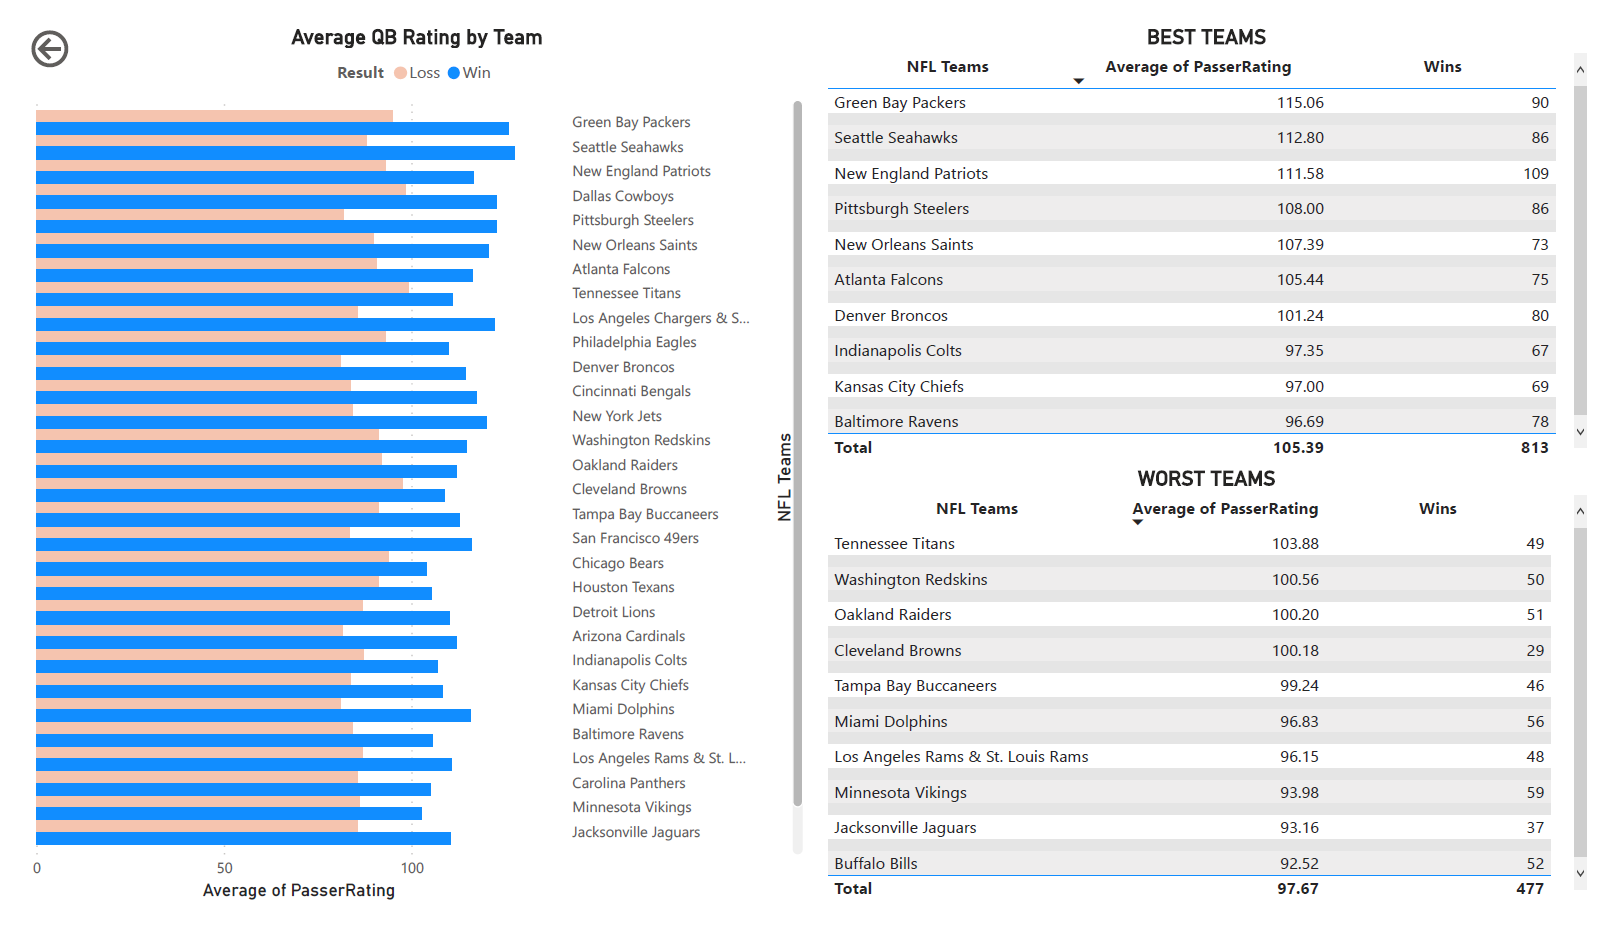

Layout of this report page (visuals, bound fields, positions):
{"tool":"powerbi","page":{"name":"QB Dependency","canvas":[1280,720],"ordinal":2},"visuals":[{"type":"clusteredBarChart","title":"Average QB Rating by Team","fields":{"Category":["nfl_football_team_stats.NFL Teams"],"Y":["Avg(nfl_football_team_stats.PasserRating)"],"Series":["nfl_football_team_stats.Result"]},"box":[0,0,640,720],"z":0},{"type":"tableEx","title":"BEST TEAMS","fields":{"Values":["nfl_football_team_stats.NFL Teams","Avg(nfl_football_team_stats.PasserRating)","nfl_football_team_stats.Wins"]},"box":[650,0,630,360],"z":1000},{"type":"actionButton","box":[0,0,100,40],"z":2000},{"type":"tableEx","title":"WORST TEAMS","fields":{"Values":["nfl_football_team_stats.NFL Teams","Avg(nfl_football_team_stats.PasserRating)","nfl_football_team_stats.Wins"]},"box":[650,360,630,360],"z":3000}]}

Visuals, with their boxes in screenshot pixels (x1, y1, x2, y2), scaled from the page's 1280x720 canvas onto the 1618x931 screenshot:
"Average QB Rating by Team" clusteredBarChart: [0,0,809,930]
"BEST TEAMS" tableEx: [822,0,1617,466]
actionButton: [0,0,126,52]
"WORST TEAMS" tableEx: [822,466,1617,930]
